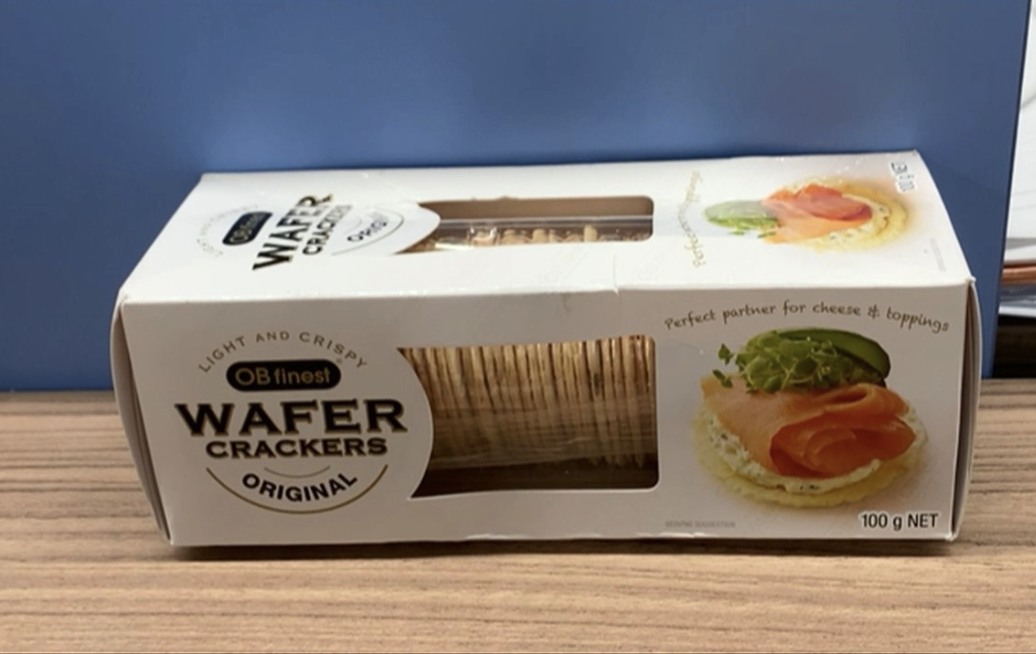crackers_100g-199g: (170, 296, 957, 536)
